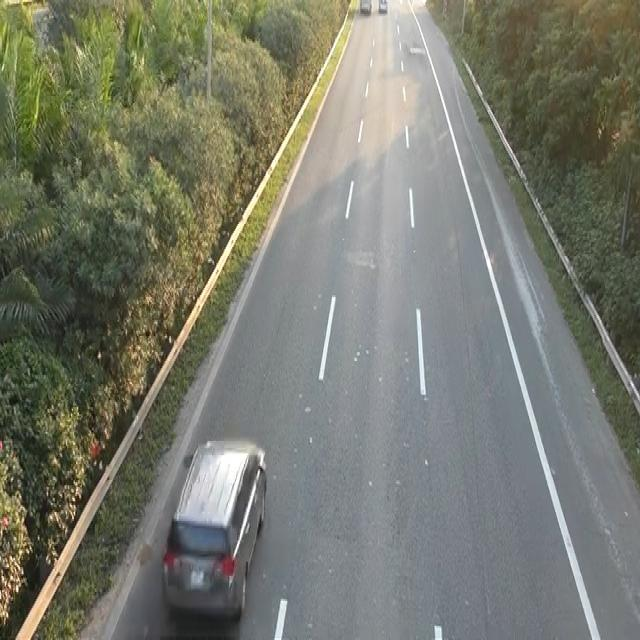bus: (377, 0, 388, 14)
car: (159, 434, 269, 620)
jeep: (359, 0, 372, 14)
